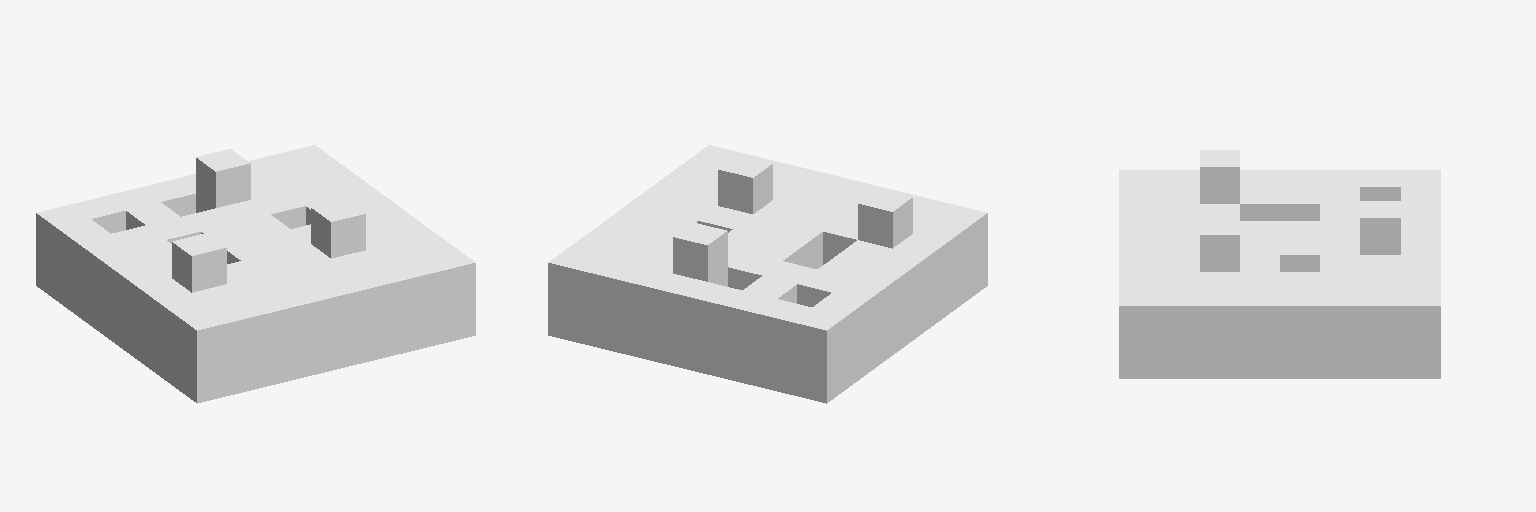
The model's file is GreenCorall17.obj.
The picture shows the model from 3 angles: view 1: azimuth 30°, elevation 25°; view 2: azimuth 150°, elevation 25°; view 3: azimuth 270°, elevation 25°; orthographic projection.
Parts seen in each view (by area): view 1: object 1; view 2: object 1; view 3: object 1.
Part boxes in pixels (x1,y1,x2,y2): object 1: (36, 145, 475, 403); object 1: (548, 145, 987, 403); object 1: (1119, 150, 1440, 378).
Bounding box in the file's own units: 0.8 × 0.3 × 0.8.